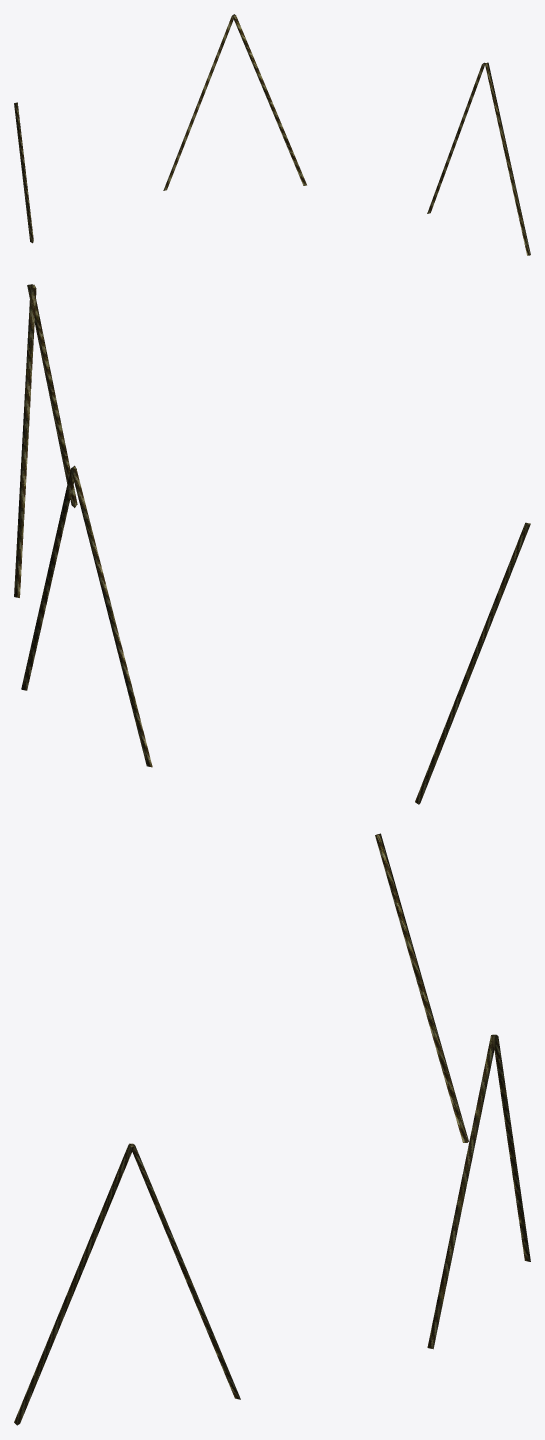
The model's file is OVERHILL_A_01_ROPE_11.fbx.
The picture shows the model from 3 angles, top to bottom: view 1: azimuth 30°, elevation 25°; view 2: azimuth 150°, elevation 25°; view 3: azimuth 270°, elevation 25°; orthographic projection. The views are drawn at different scales.
Parts seen in each view (by area): view 1: OVERHILL_A_01_ROPE_11; view 2: OVERHILL_A_01_ROPE_11; view 3: OVERHILL_A_01_ROPE_11.
Part boxes in pixels (x1,y1,x2,y2): OVERHILL_A_01_ROPE_11: (14, 14, 530, 255); OVERHILL_A_01_ROPE_11: (14, 284, 530, 804); OVERHILL_A_01_ROPE_11: (14, 833, 530, 1425).
Size of the model in its own units: 53558 by 21520 by 36602.
1 material, 1 textured.
